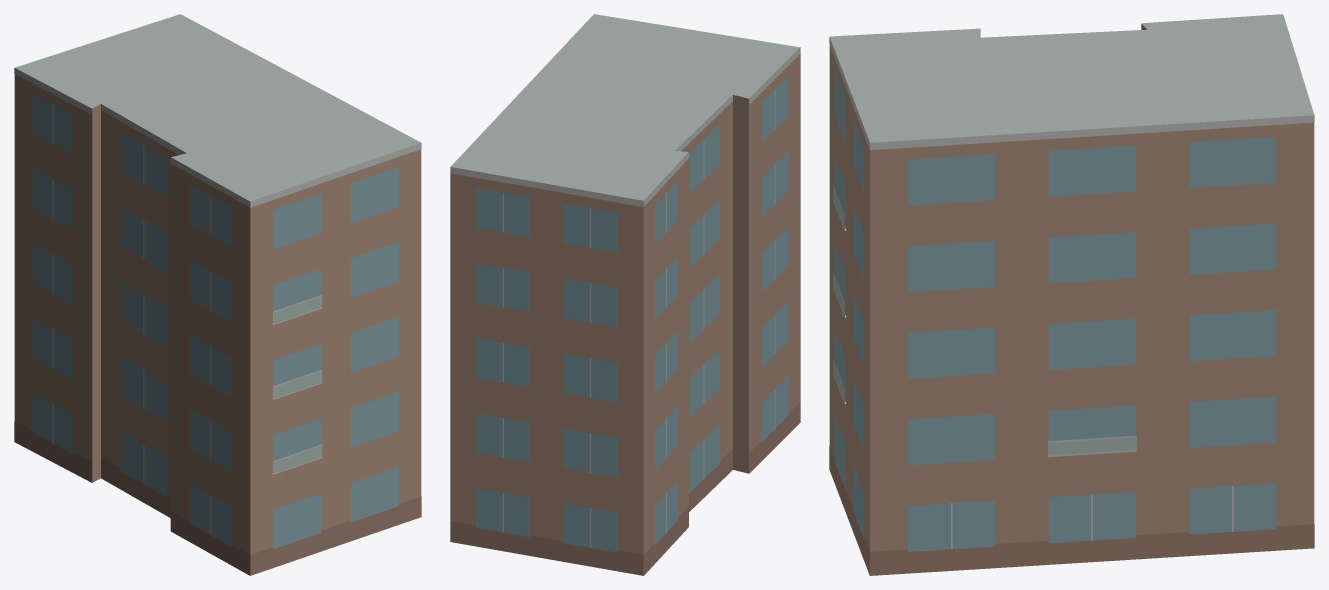
Rendered from survey-upis-32720431.glb.
The picture shows the model from 3 angles, left to right: view 1: azimuth 30°, elevation 25°; view 2: azimuth 150°, elevation 25°; view 3: azimuth 270°, elevation 25°; orthographic projection. The views are drawn at different scales.
Visible parts, largest first — view 1: survey-upis-32720431.tmp; view 2: survey-upis-32720431.tmp; view 3: survey-upis-32720431.tmp.
Part boxes in pixels (x1,y1,x2,y2): survey-upis-32720431.tmp: (14, 14, 421, 575); survey-upis-32720431.tmp: (450, 14, 800, 575); survey-upis-32720431.tmp: (829, 14, 1314, 575).
Size of the model in its own units: 9.3 by 14.55 by 14.78.
